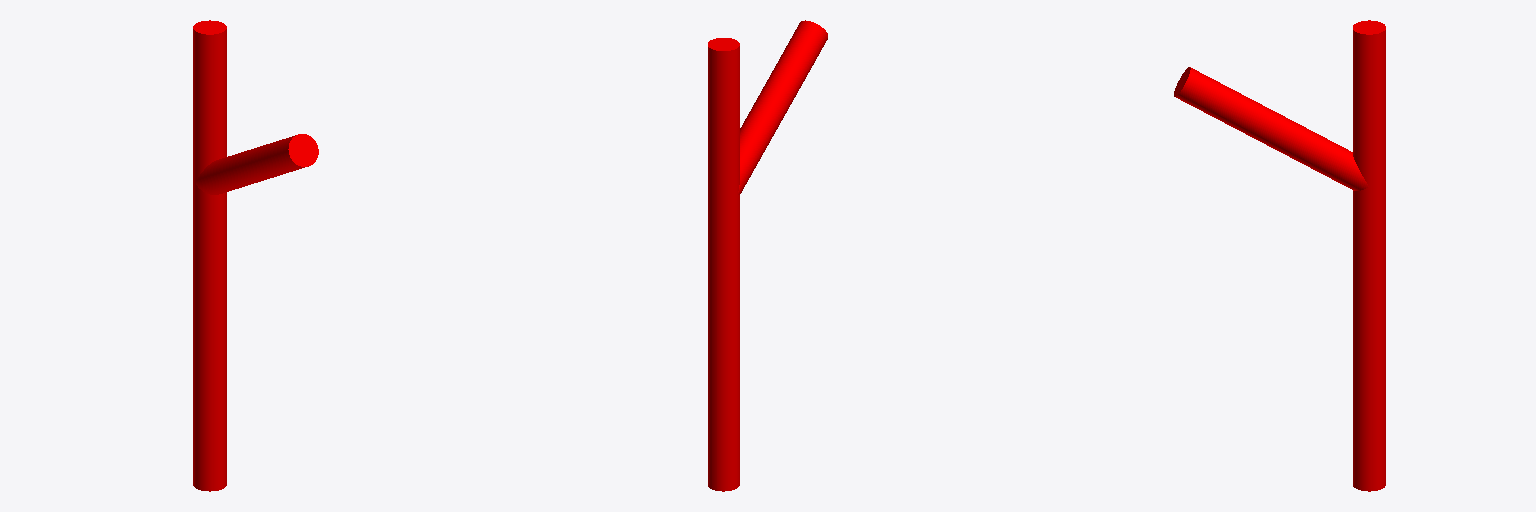
robot.urdf — tree.urdf:
<?xml version="1.0" ?>
<robot name="tree.urdf">
  <link name="baseLink">
    <contact>
      <lateral_friction value="1.0"/>
      <inertia_scaling value="3.0"/>
    </contact>
    <inertial>
      <origin rpy="0 0 0" xyz="0 0 0"/>
       <mass value=".1"/>
       <inertia ixx="1" ixy="0" ixz="0" iyy="1" iyz="0" izz="1"/>
    </inertial>
    <visual>
      <origin rpy="0 0 0" xyz="0 0 0"/>
      <geometry>
        <mesh filename="0.stl" scale="1 1 1" />
      </geometry>
      <material name="red">
        <color rgba="1 0 0 1"/>
      </material>
    </visual>
    <collision>
      <origin rpy="0 0 0" xyz="0 0 0"/>
      <geometry>
        <mesh filename="0_convex.obj" scale="1 1 1" />
      </geometry>
    </collision>
  </link>
</robot>

--- What the picture shows (computed from the rendered views, not written in the file) ---
3 views of the same robot in one strip: view 1: azimuth 30°, elevation 25°; view 2: azimuth 150°, elevation 25°; view 3: azimuth 270°, elevation 25° (orthographic).
Robot: tree.urdf — 1 links, 0 joints (none); root link baseLink; default pose: every joint at zero.
Links seen in each view (by area): view 1: baseLink; view 2: baseLink; view 3: baseLink.
Link boxes in pixels (bbox=[...]): baseLink: bbox=[193, 20, 318, 491]; baseLink: bbox=[708, 20, 827, 491]; baseLink: bbox=[1174, 20, 1385, 491].
Bounding box of the posed robot: 0.0167 × 0.1053 × 0.25 m (x, y, z).
1 mesh visuals loaded from 1 distinct referenced files (1 binary STL).